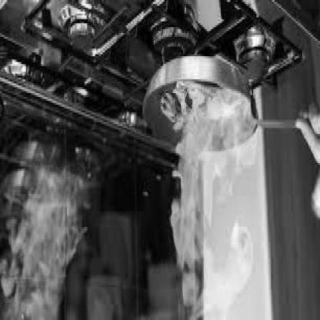Fire: (166, 93, 268, 320), (4, 178, 82, 320)
